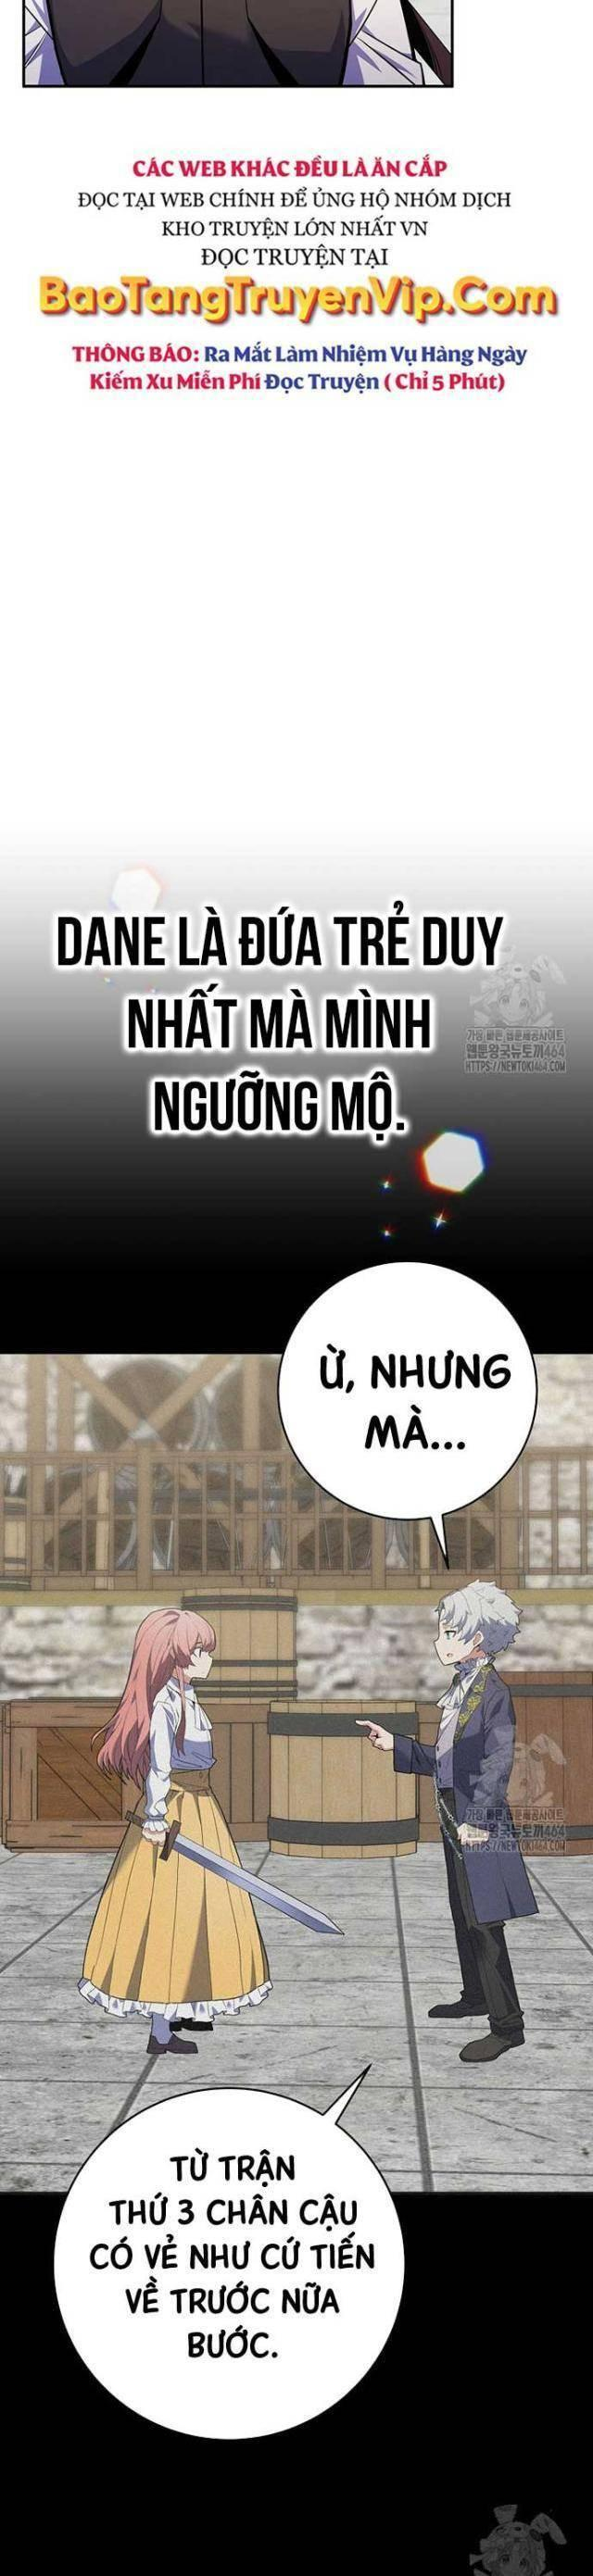quangcao: (34, 151, 565, 398)
